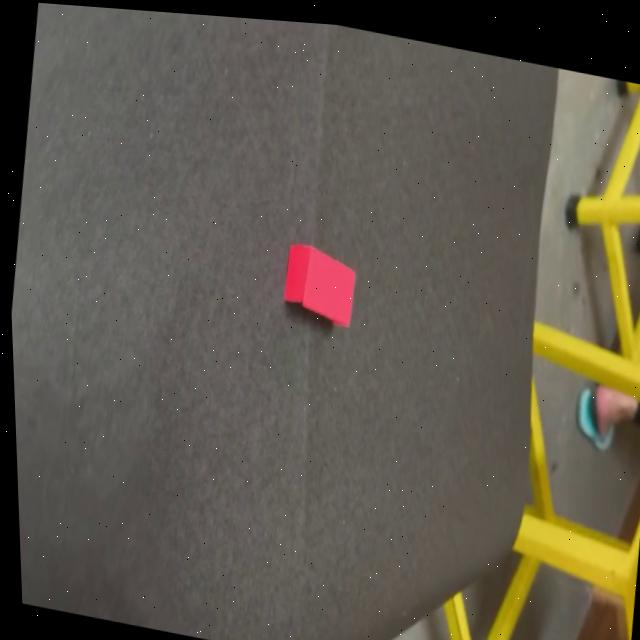red block: (279, 240, 361, 332)
